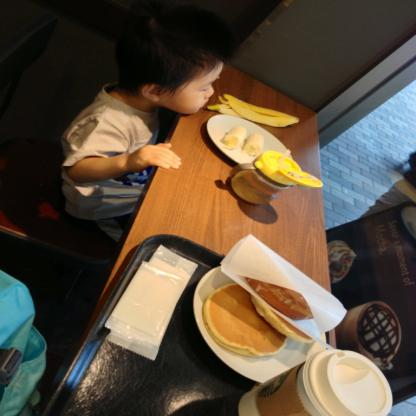Banana: (223, 87, 299, 126), (224, 123, 249, 150), (241, 134, 263, 158)
